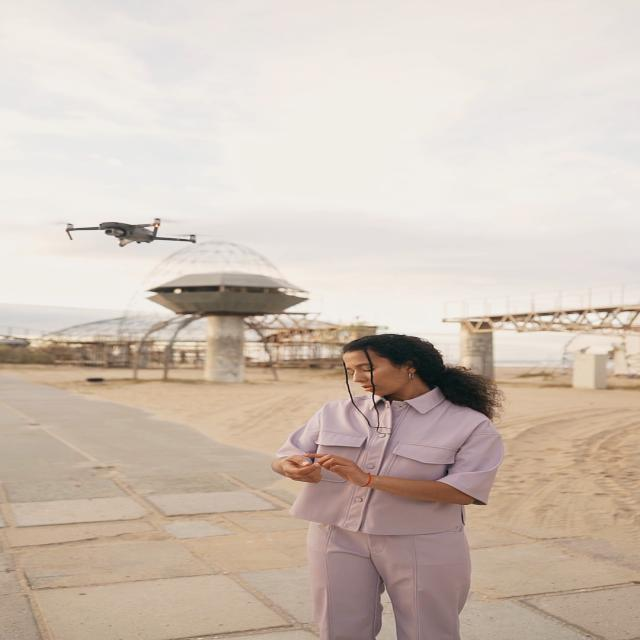Drone: (57, 212, 203, 252)
